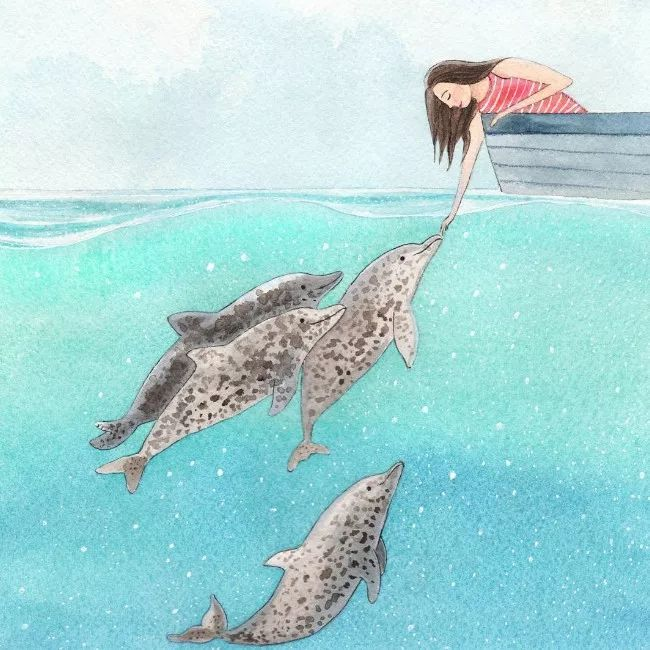fish: (90, 257, 347, 450), (101, 299, 345, 490), (165, 459, 410, 648), (288, 234, 445, 468)
